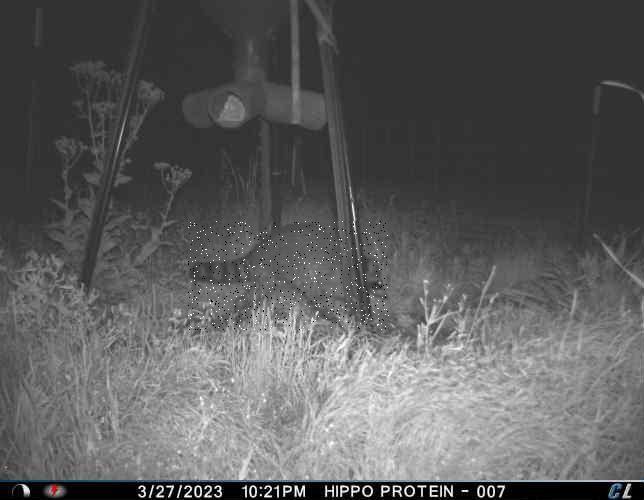Raccoon: (189, 222, 390, 331)
